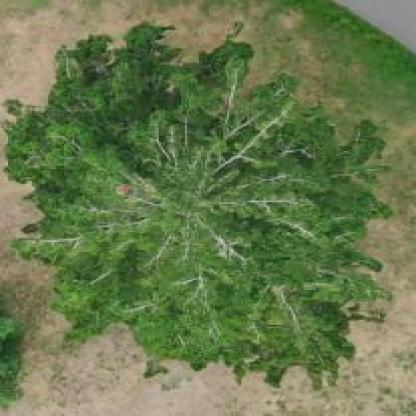Coniferous Tree: (4, 17, 402, 381)
